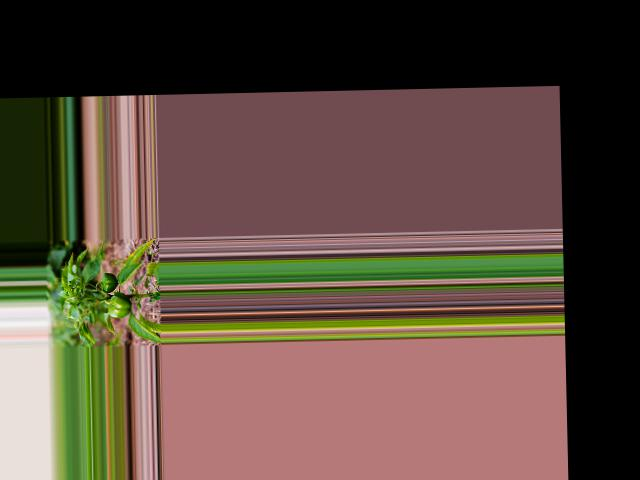bell_pepper: (98, 271, 119, 293)
